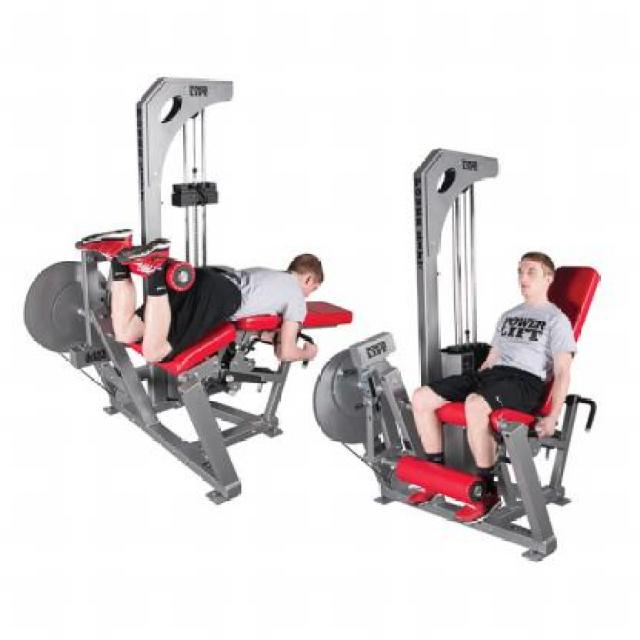reg curl machine: (22, 71, 356, 511)
